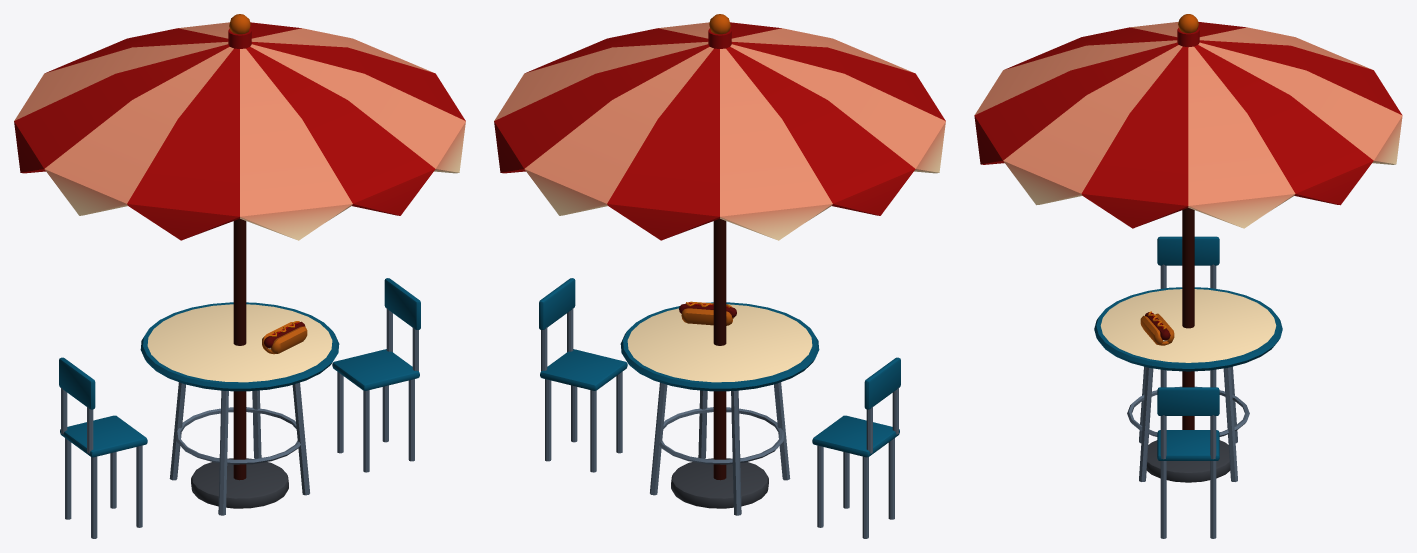
The model's file is PatioUmbrella.obj.
The picture shows the model from 3 angles, left to right: view 1: azimuth 30°, elevation 25°; view 2: azimuth 150°, elevation 25°; view 3: azimuth 270°, elevation 25°; orthographic projection. The views are drawn at different scales.
Parts seen in each view (by area): view 1: PatioUmbrella; view 2: PatioUmbrella; view 3: PatioUmbrella.
Boxes of the visible parts, <box> form: PatioUmbrella: <box>14,14,465,538</box>; PatioUmbrella: <box>494,14,945,538</box>; PatioUmbrella: <box>974,14,1402,538</box>.
Size of the model in its own units: 6.9 by 7.99 by 6.9.
